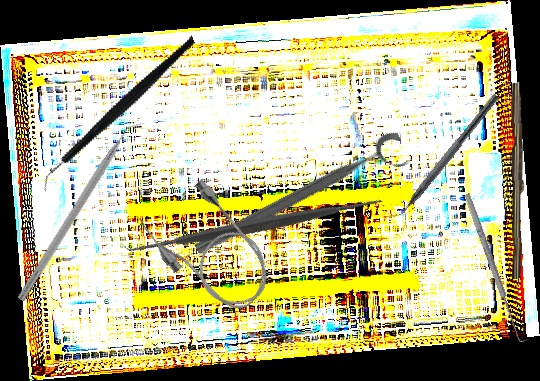Cannula: (133, 171, 286, 329)
Chopper: (11, 35, 227, 195), (16, 114, 149, 309), (382, 85, 501, 230)
Fixation Ring: (190, 128, 414, 273)
Hook Surgical: (461, 190, 531, 345)
Scalpel Handle: (508, 82, 528, 279)
Spatula Surgical: (116, 87, 394, 364)
